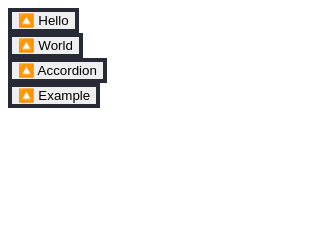
Test: Accordion › when clicking item › when clicking other item › should show both items
The width and height of the screenshot is (320, 225).
Click the button "🔼 Hello".
click(43, 20)  # box top-left (8, 8), bottom-right (79, 33)
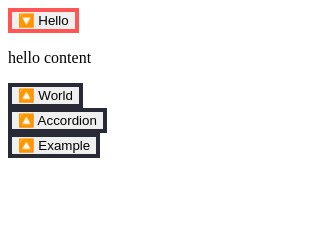
Click the button "🔼 Accordion".
click(57, 120)  # box top-left (8, 108), bottom-right (107, 133)
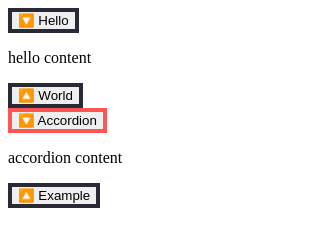
Expected: the text "hello content" is shown, top-left (8, 49), bottom-right (91, 66)
Expected: the text "accordion content" is shown, top-left (8, 149), bottom-right (122, 166)
